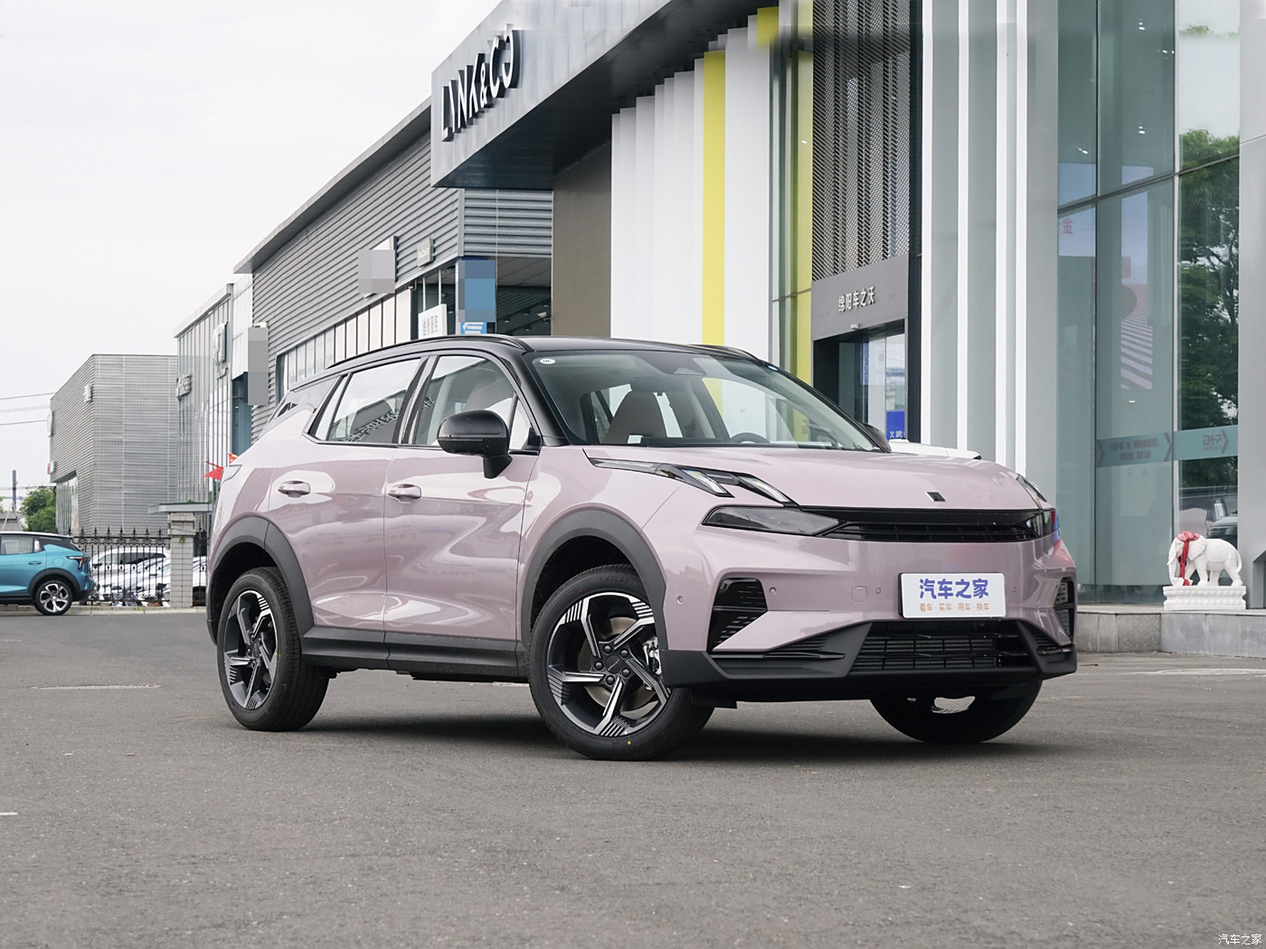LINK&CO: (928, 492, 946, 502)
